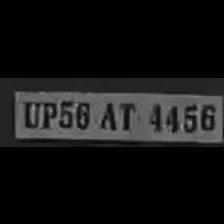1: (114, 96, 138, 130)
4: (143, 97, 165, 131), (162, 98, 178, 132)
5: (179, 100, 197, 132), (55, 96, 73, 127)
6: (196, 100, 218, 132), (72, 97, 92, 128)
A: (94, 96, 116, 130)
P: (38, 96, 56, 127)
U: (19, 96, 41, 127)
